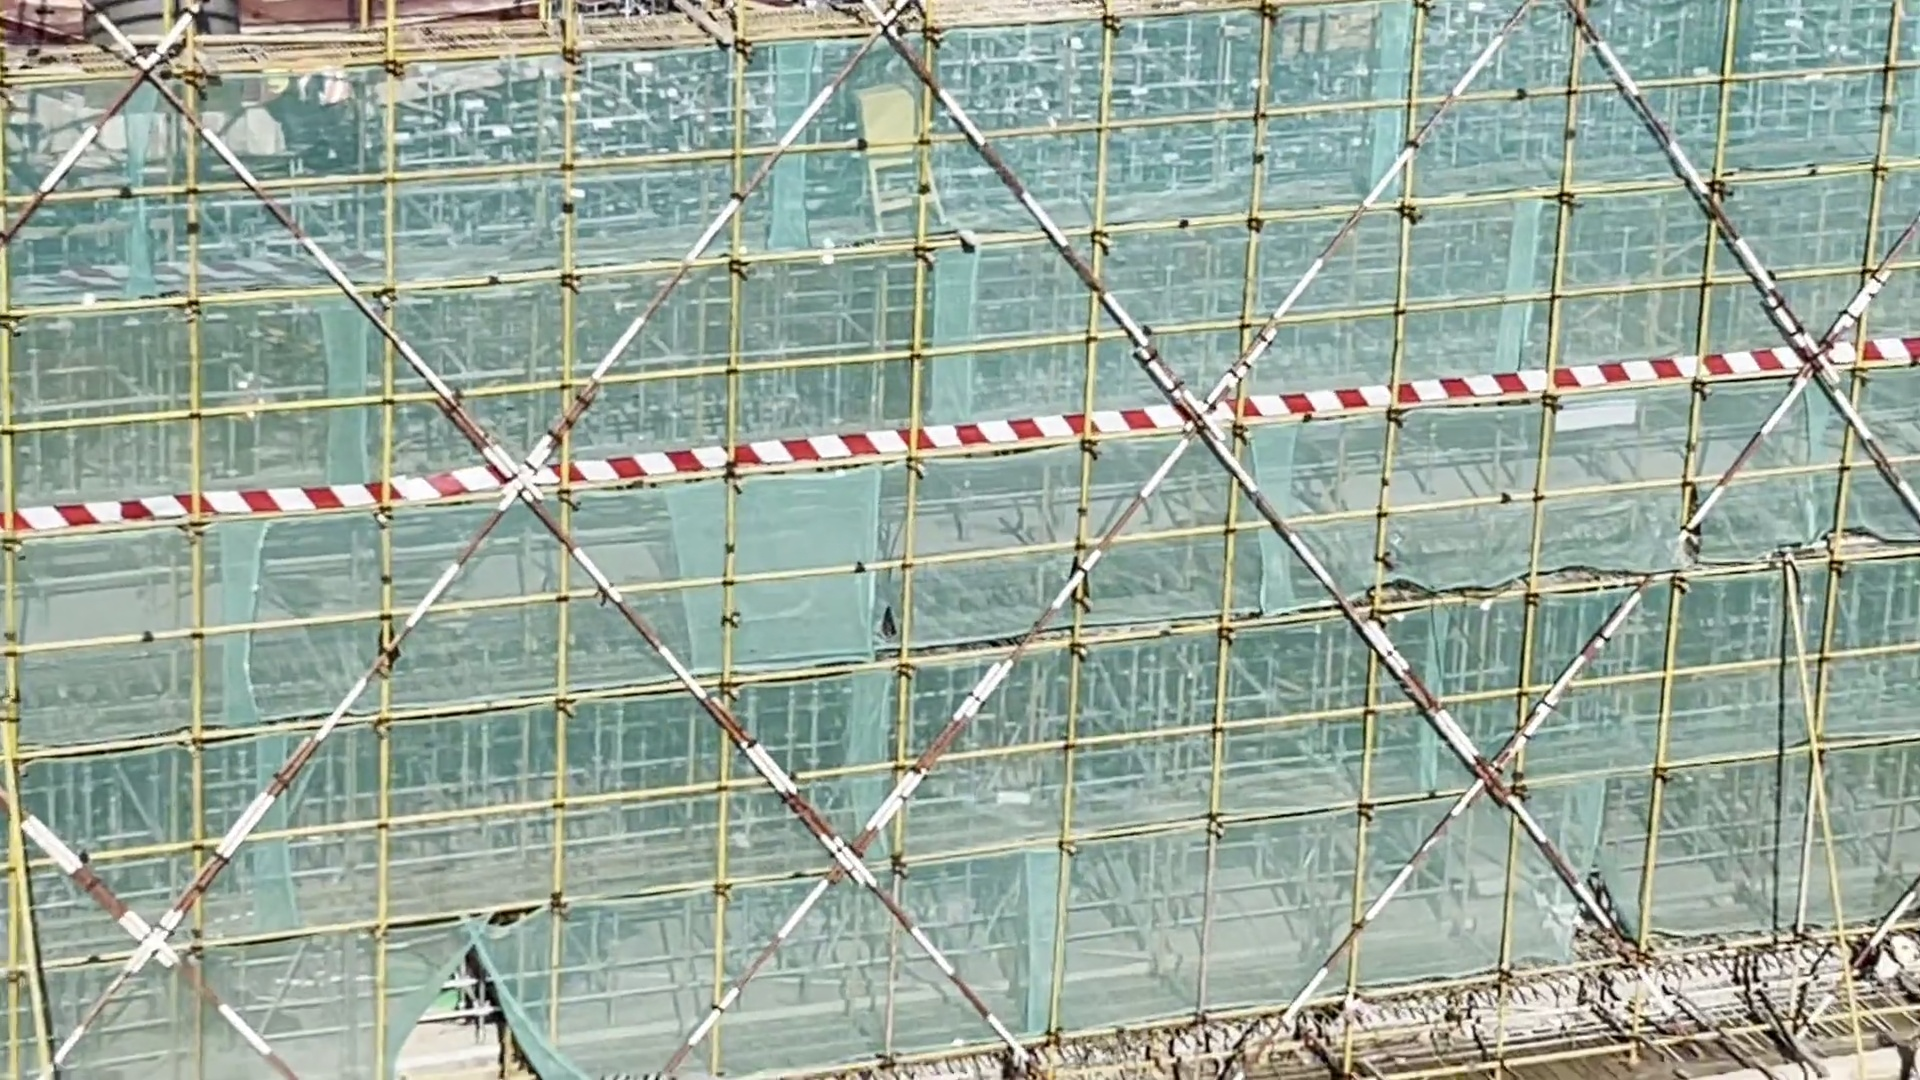ebox: (829, 76, 953, 229)
